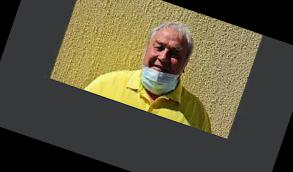mask_weared_incorrect: (142, 37, 189, 86)
